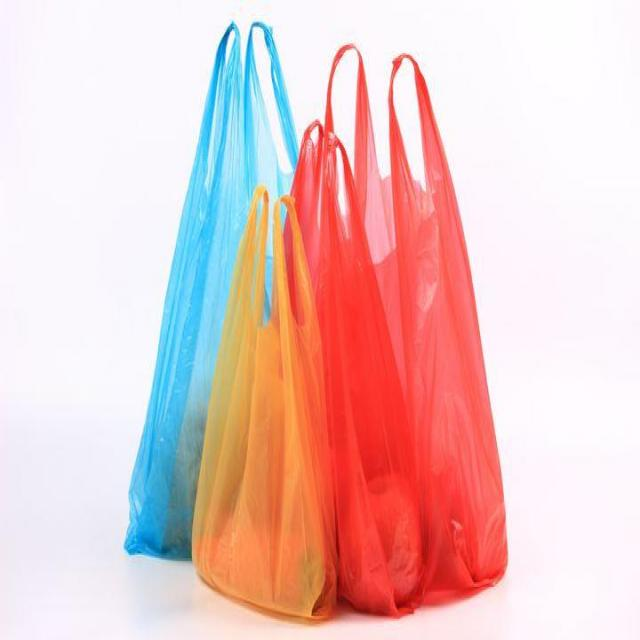plastic_bag: (129, 15, 331, 566), (315, 36, 511, 587), (272, 116, 430, 622), (192, 184, 344, 624)
